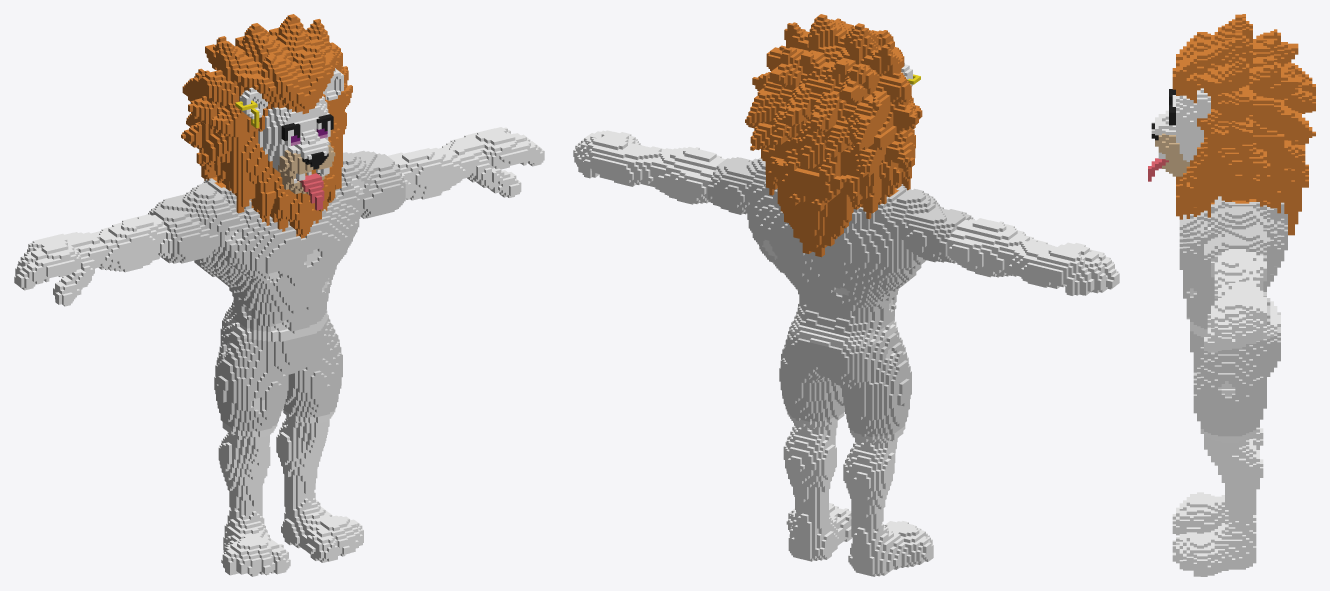
Rendered from 809-DOVfMWBS.glb.
3 renders of one model, left to right at view 1: azimuth 30°, elevation 25°; view 2: azimuth 150°, elevation 25°; view 3: azimuth 270°, elevation 25°, orthographic. The views are drawn at different scales.
Visible parts, largest first — view 1: tongue_out; view 2: tongue_out; view 3: tongue_out.
Boxes of the visible parts, x1=… form: tongue_out: x1=14, y1=14, x2=544, y2=576; tongue_out: x1=573, y1=14, x2=1119, y2=576; tongue_out: x1=1148, y1=14, x2=1315, y2=576.
Bounding box in the file's own units: 17.2 × 16.5 × 4.8.
Materials: 6 (6 with a texture image).
